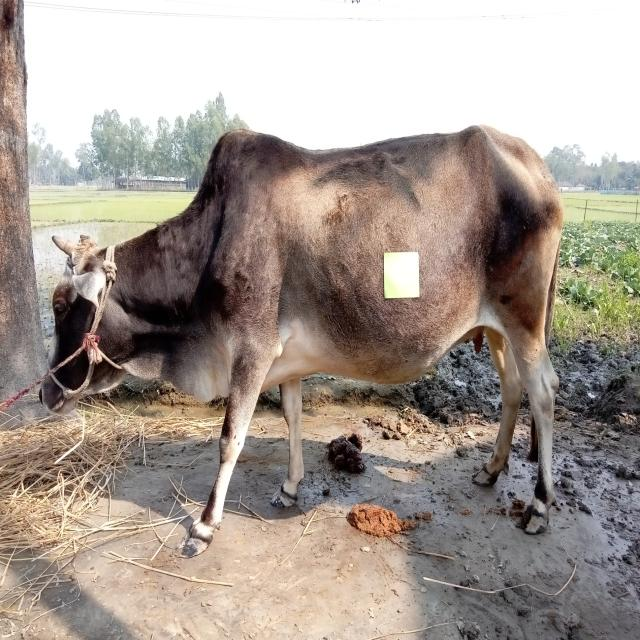badan_sapi: (236, 148, 543, 375)
sapi: (37, 127, 590, 564)
